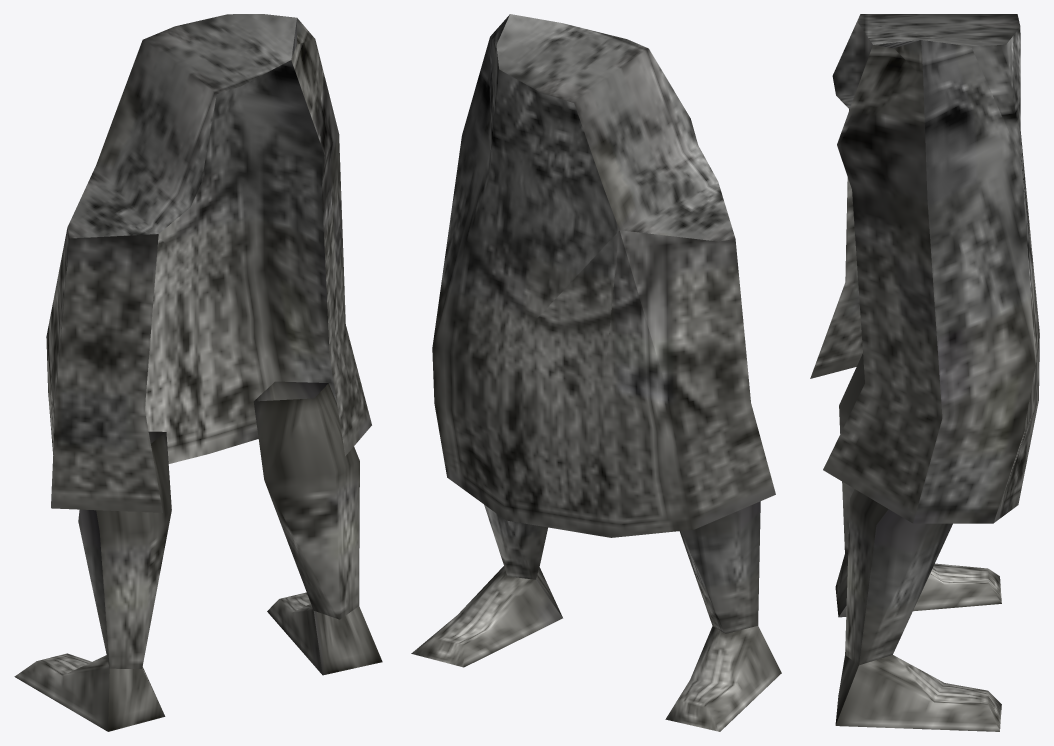
The picture shows the model from 3 angles, left to right: view 1: azimuth 30°, elevation 25°; view 2: azimuth 150°, elevation 25°; view 3: azimuth 270°, elevation 25°; orthographic projection. The views are drawn at different scales.
Parts seen in each view (by area): view 1: np159; view 2: np159; view 3: np159.
Part boxes in pixels (bbox=[...]): np159: bbox=[14, 14, 382, 731]; np159: bbox=[411, 14, 781, 731]; np159: bbox=[810, 14, 1039, 731].
Bounding box in the file's own units: 95.12 × 175 × 54.77.
